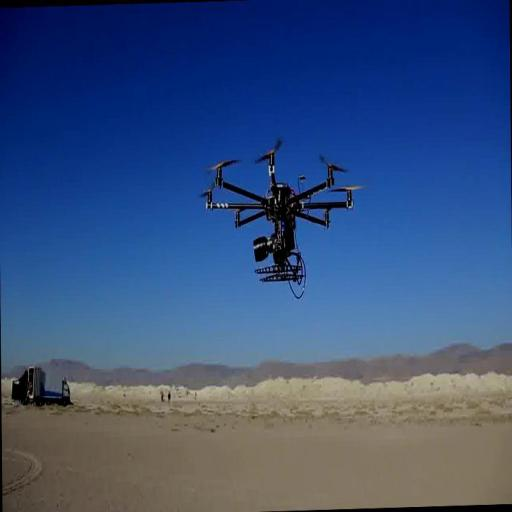drone: (198, 134, 369, 282)
